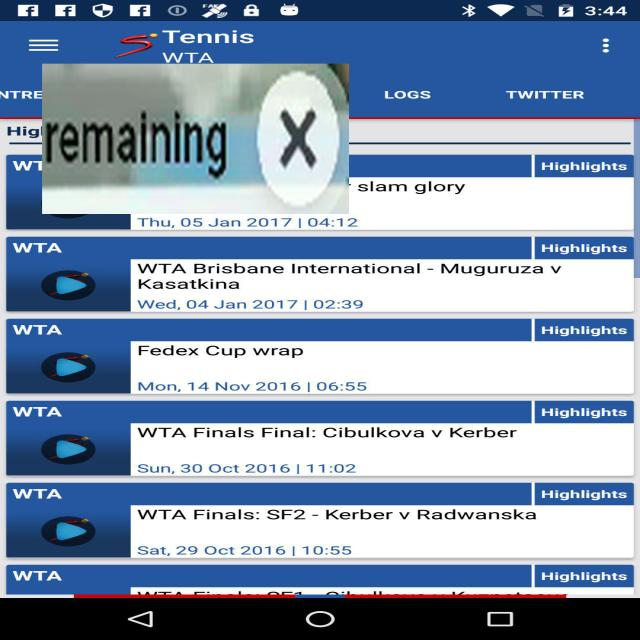misdirection: (42, 64, 349, 214)
